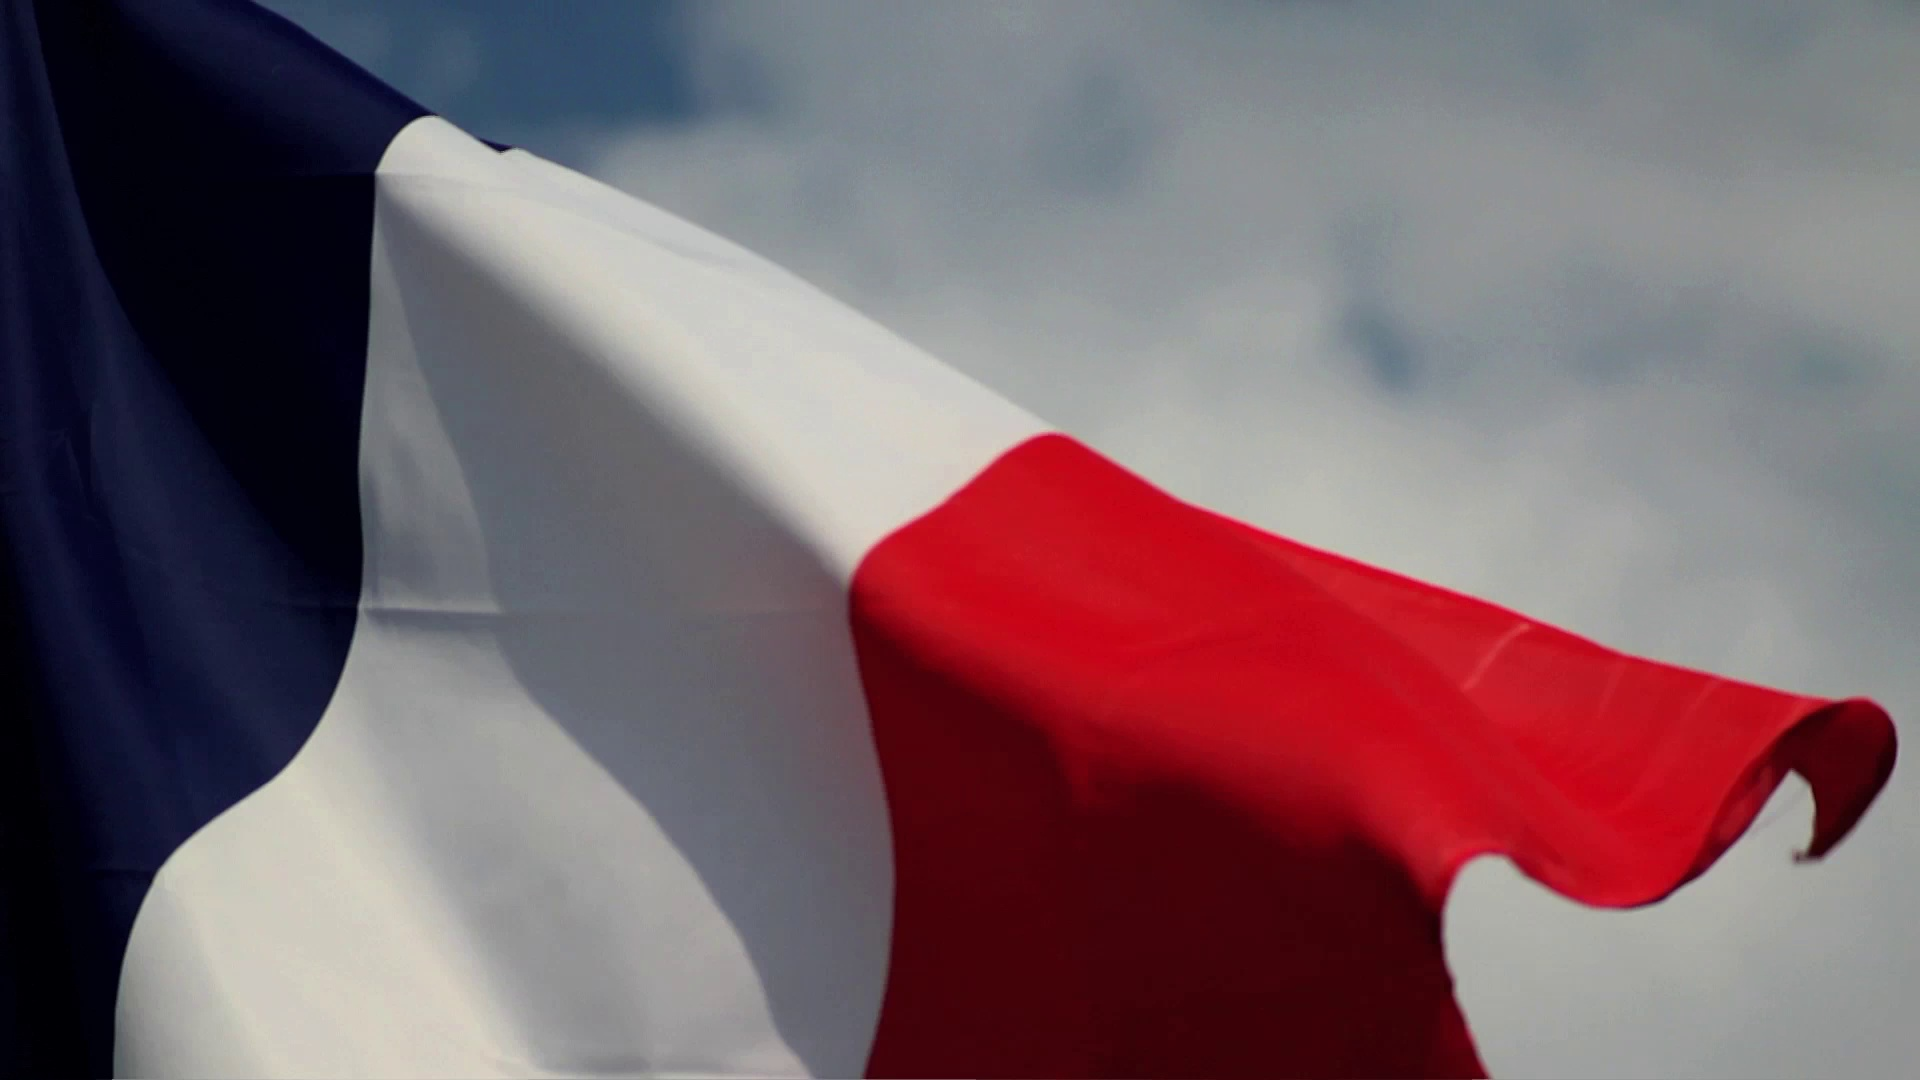French Flag: (1, 4, 1920, 1076)
